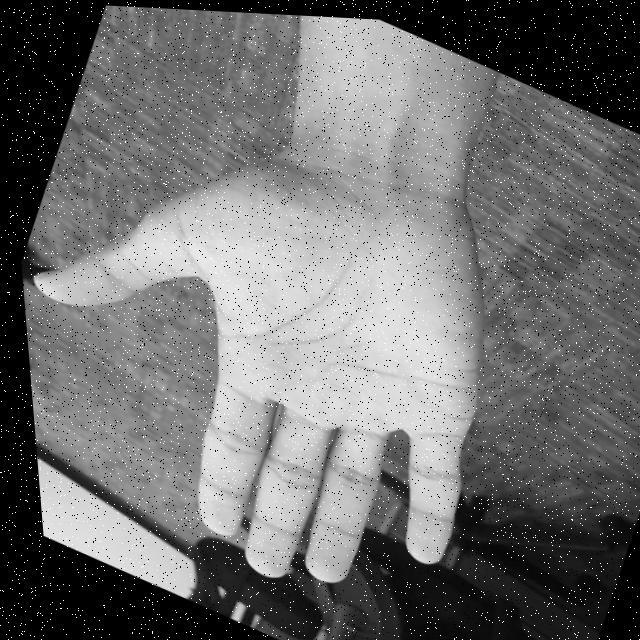no-gloves: (1, 24, 578, 640)
